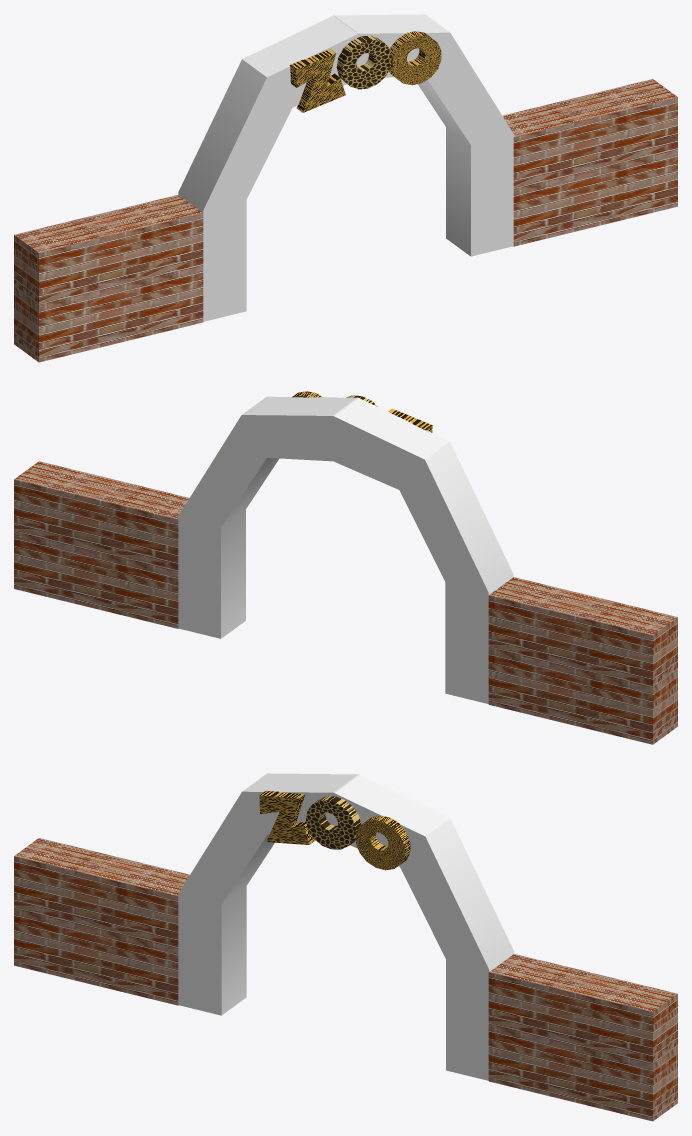
The model's file is zoo.glb.
3 renders of one model, top to bottom at view 1: azimuth 30°, elevation 25°; view 2: azimuth 150°, elevation 25°; view 3: azimuth 330°, elevation 25°, orthographic.
Parts seen in each view (by area): view 1: Object_5, Object_6, Object_2, Object_3, Object_4; view 2: Object_5, Object_6; view 3: Object_5, Object_6, Object_4, Object_3, Object_2.
Boxes of the visible parts, left/top/right/bottom form: Object_5: left=14, top=79, right=677, bottom=362; Object_6: left=178, top=14, right=514, bottom=321; Object_2: left=289, top=49, right=345, bottom=112; Object_3: left=336, top=35, right=392, bottom=89; Object_4: left=389, top=31, right=441, bottom=85; Object_5: left=14, top=461, right=677, bottom=744; Object_6: left=177, top=396, right=513, bottom=703; Object_5: left=14, top=838, right=677, bottom=1121; Object_6: left=178, top=773, right=514, bottom=1080; Object_4: left=356, top=815, right=410, bottom=870; Object_3: left=306, top=796, right=360, bottom=849; Object_2: left=259, top=791, right=315, bottom=844.
Size of the model in its own units: 14.77 by 5.54 by 1.23.
5 materials, 4 textured.
